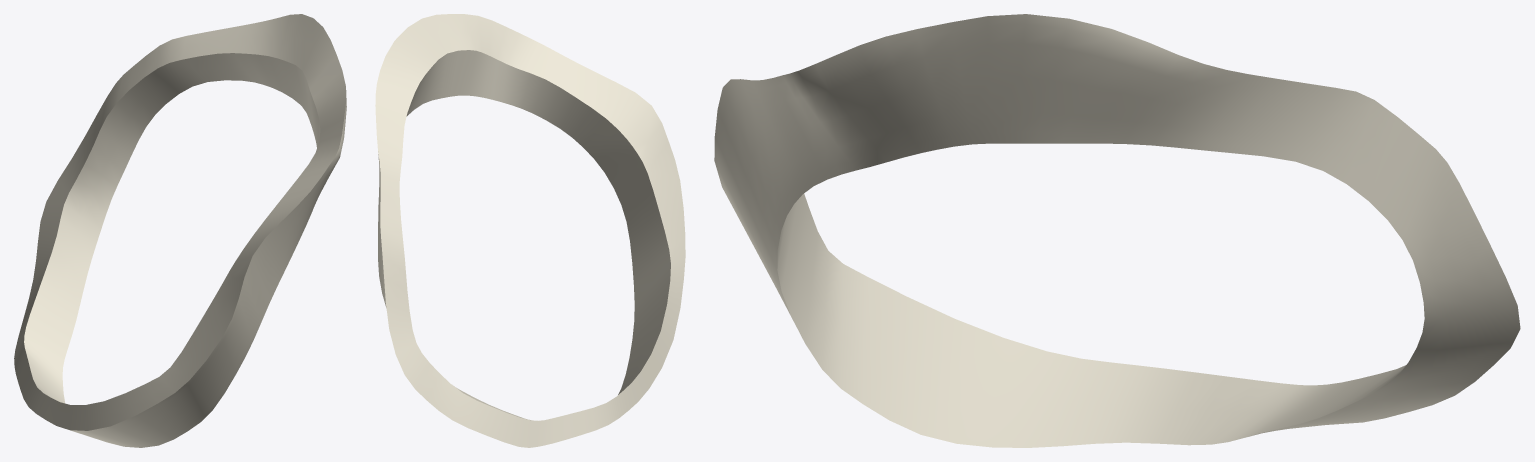
The picture shows the model from 3 angles, left to right: view 1: azimuth 30°, elevation 25°; view 2: azimuth 150°, elevation 25°; view 3: azimuth 270°, elevation 25°; orthographic projection. The views are drawn at different scales.
Parts seen in each view (by area): view 1: ZA_84f58f8d4cfa5f36; view 2: ZA_84f58f8d4cfa5f36; view 3: ZA_84f58f8d4cfa5f36.
Boxes of the visible parts, x1,y1,x2,y2 form: ZA_84f58f8d4cfa5f36: (14, 14, 346, 447); ZA_84f58f8d4cfa5f36: (375, 14, 685, 447); ZA_84f58f8d4cfa5f36: (714, 14, 1520, 447).
Size of the model in its own units: 0.0353 by 0.0478 by 0.0573.
